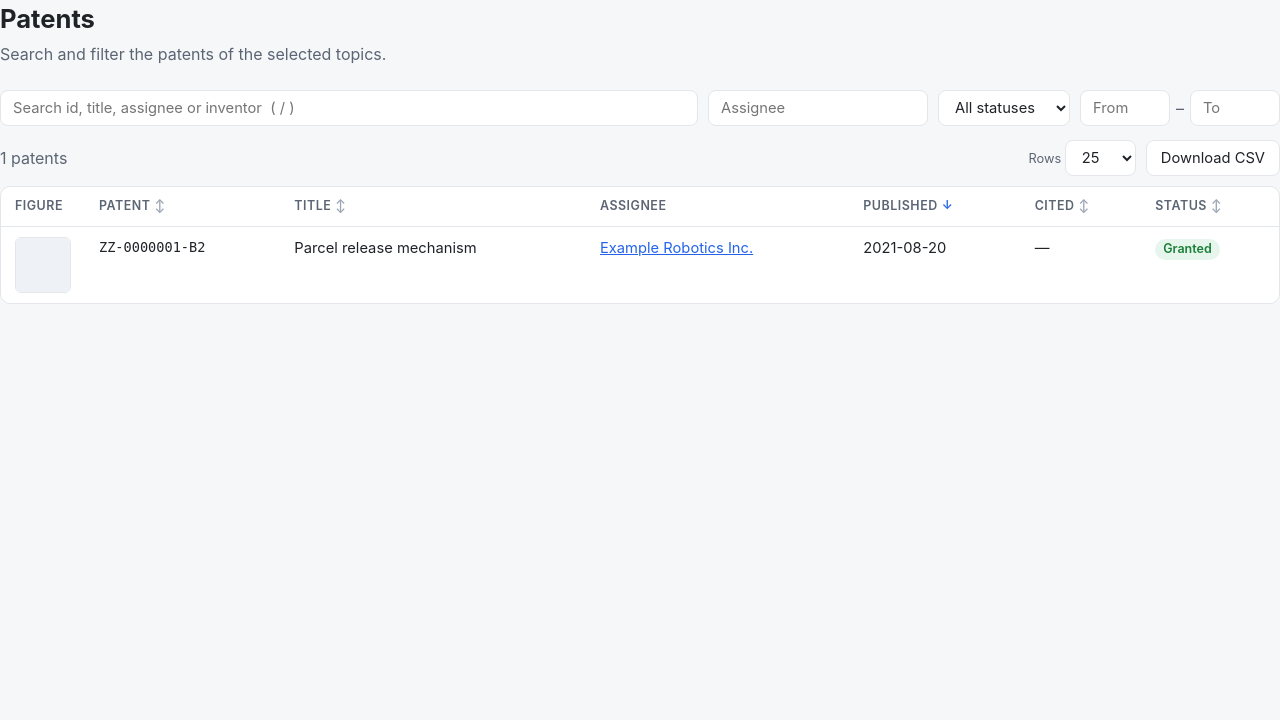
Test: Patents › keeps the open patent in the URL
This screenshot has width=1280, height=720.
What coordinates should you click on to do the following:
click the text "Parcel release mechanism"
I would click on:
 (385, 248)
Its box is [280,227,586,303].
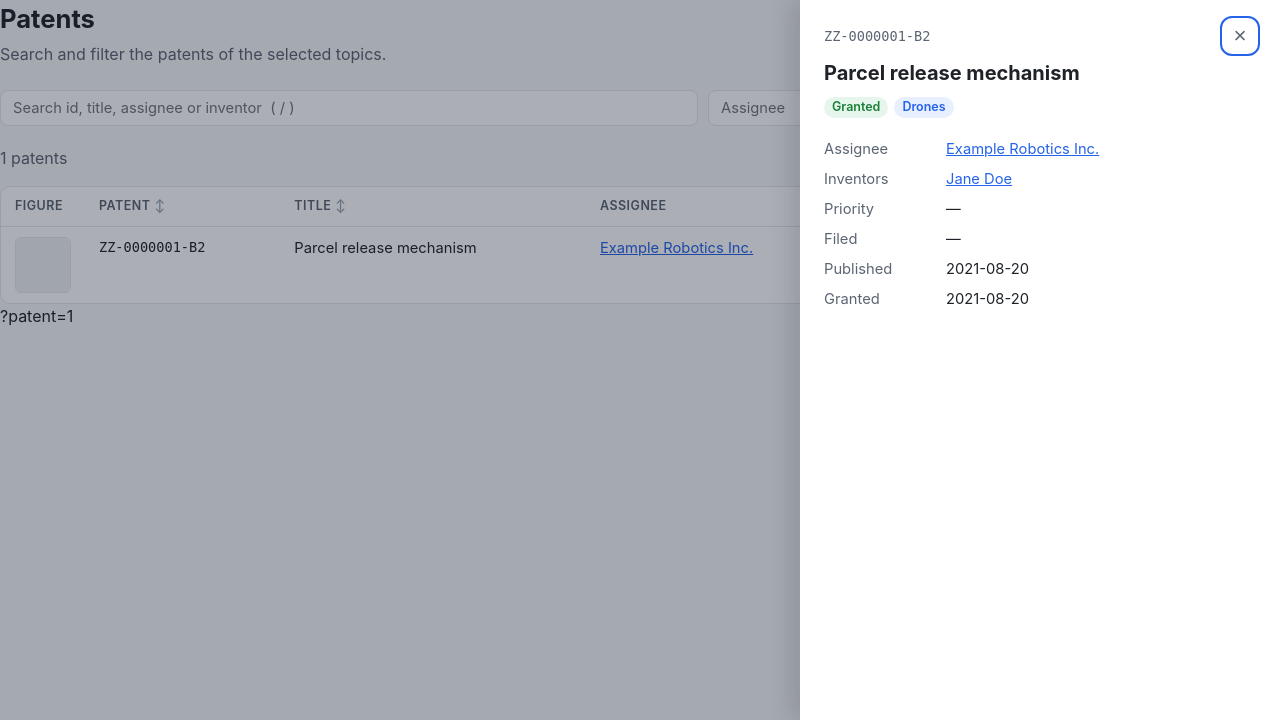
Expected: the dialog "Parcel release mechanism" is shown, [800,0,1279,719]
Expected: the text with test id "location" reads "?patent=1", [0,306,73,326]
What coordinates should you click on to do the following:
click the button named "Close"
I would click on:
 (1240, 36)
Its box is [1224,20,1256,52].
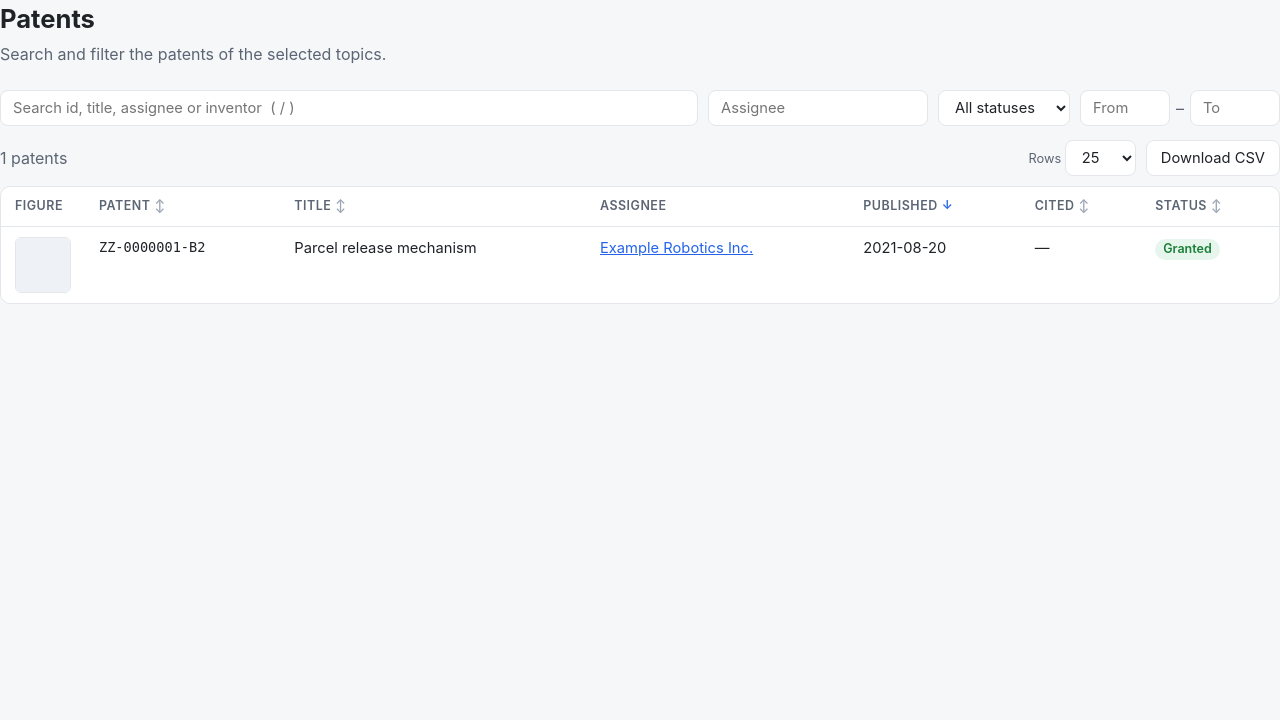
Expected: the dialog is gone
